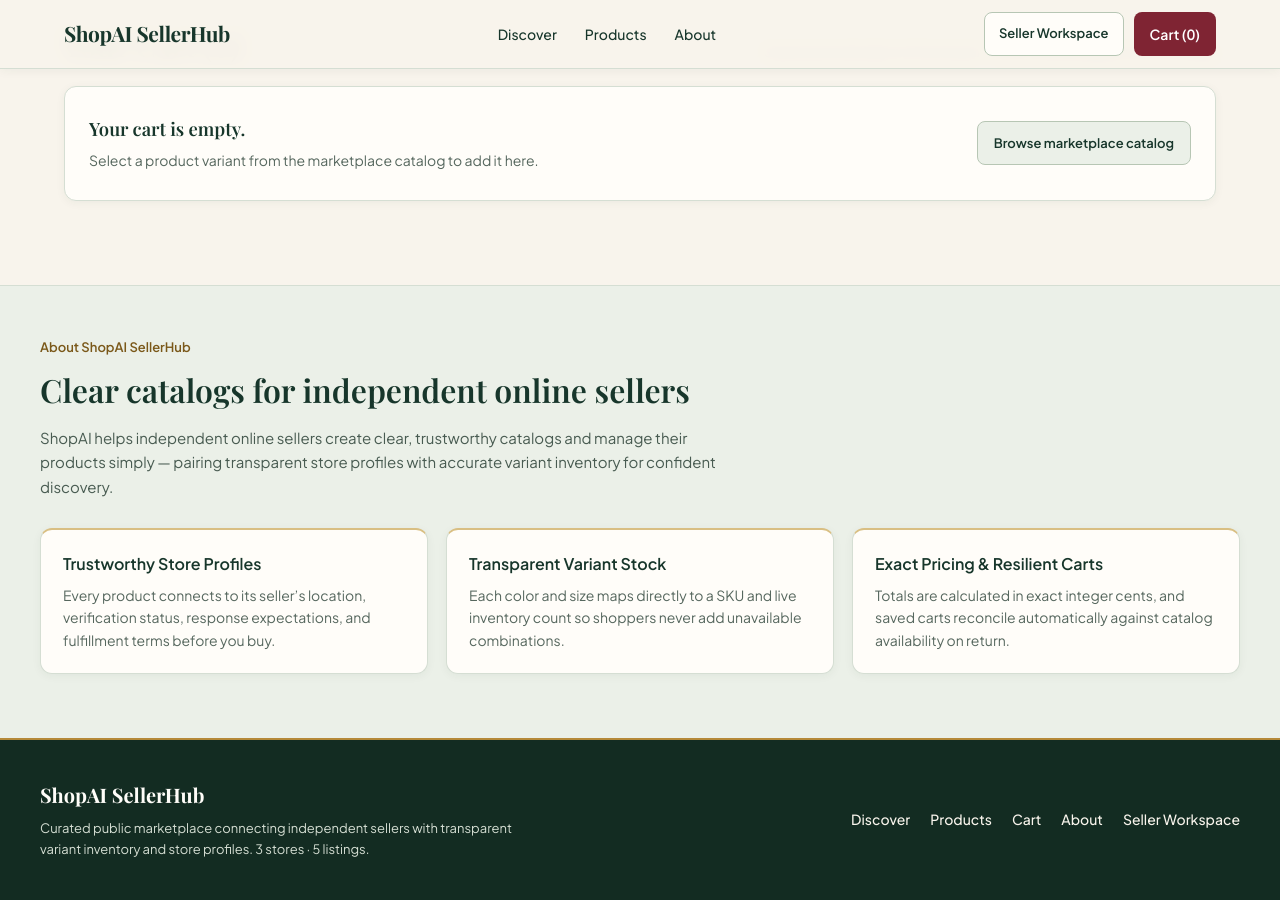
Test: Stage 1 catalog enhancements › renders single-page footer links and workspace entry point
This screenshot has width=1280, height=900.
(page scrolled)
Click the 2nd button "Seller Workspace": x=1181, y=820 [1123,798,1240,842]
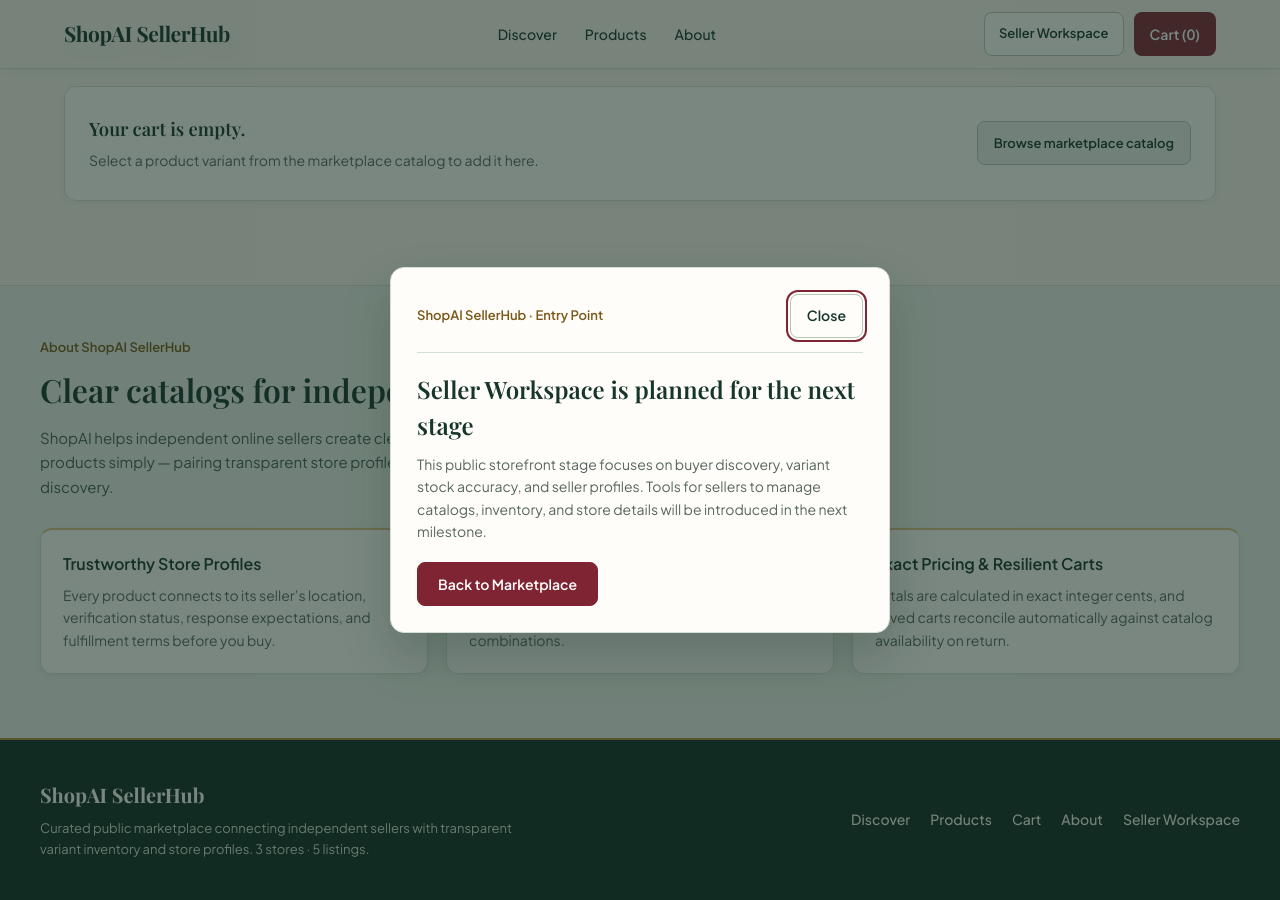
Check: the dialog is shown, box [390,267,890,633]
